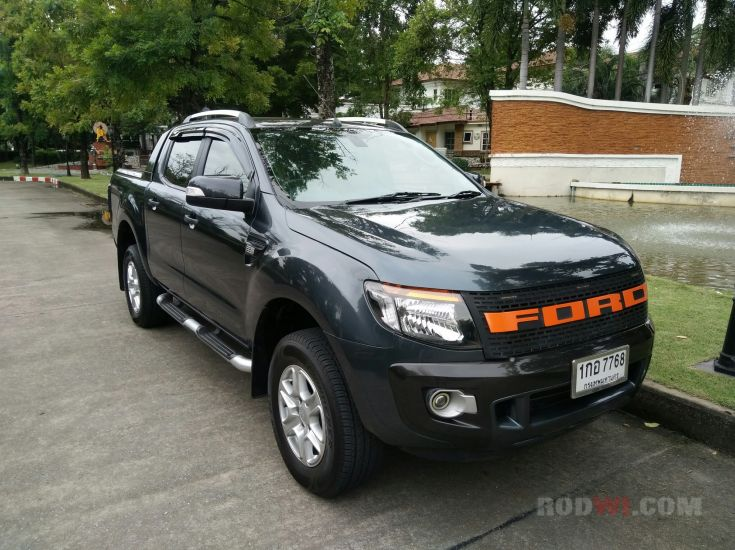pickup: (101, 108, 655, 497)
